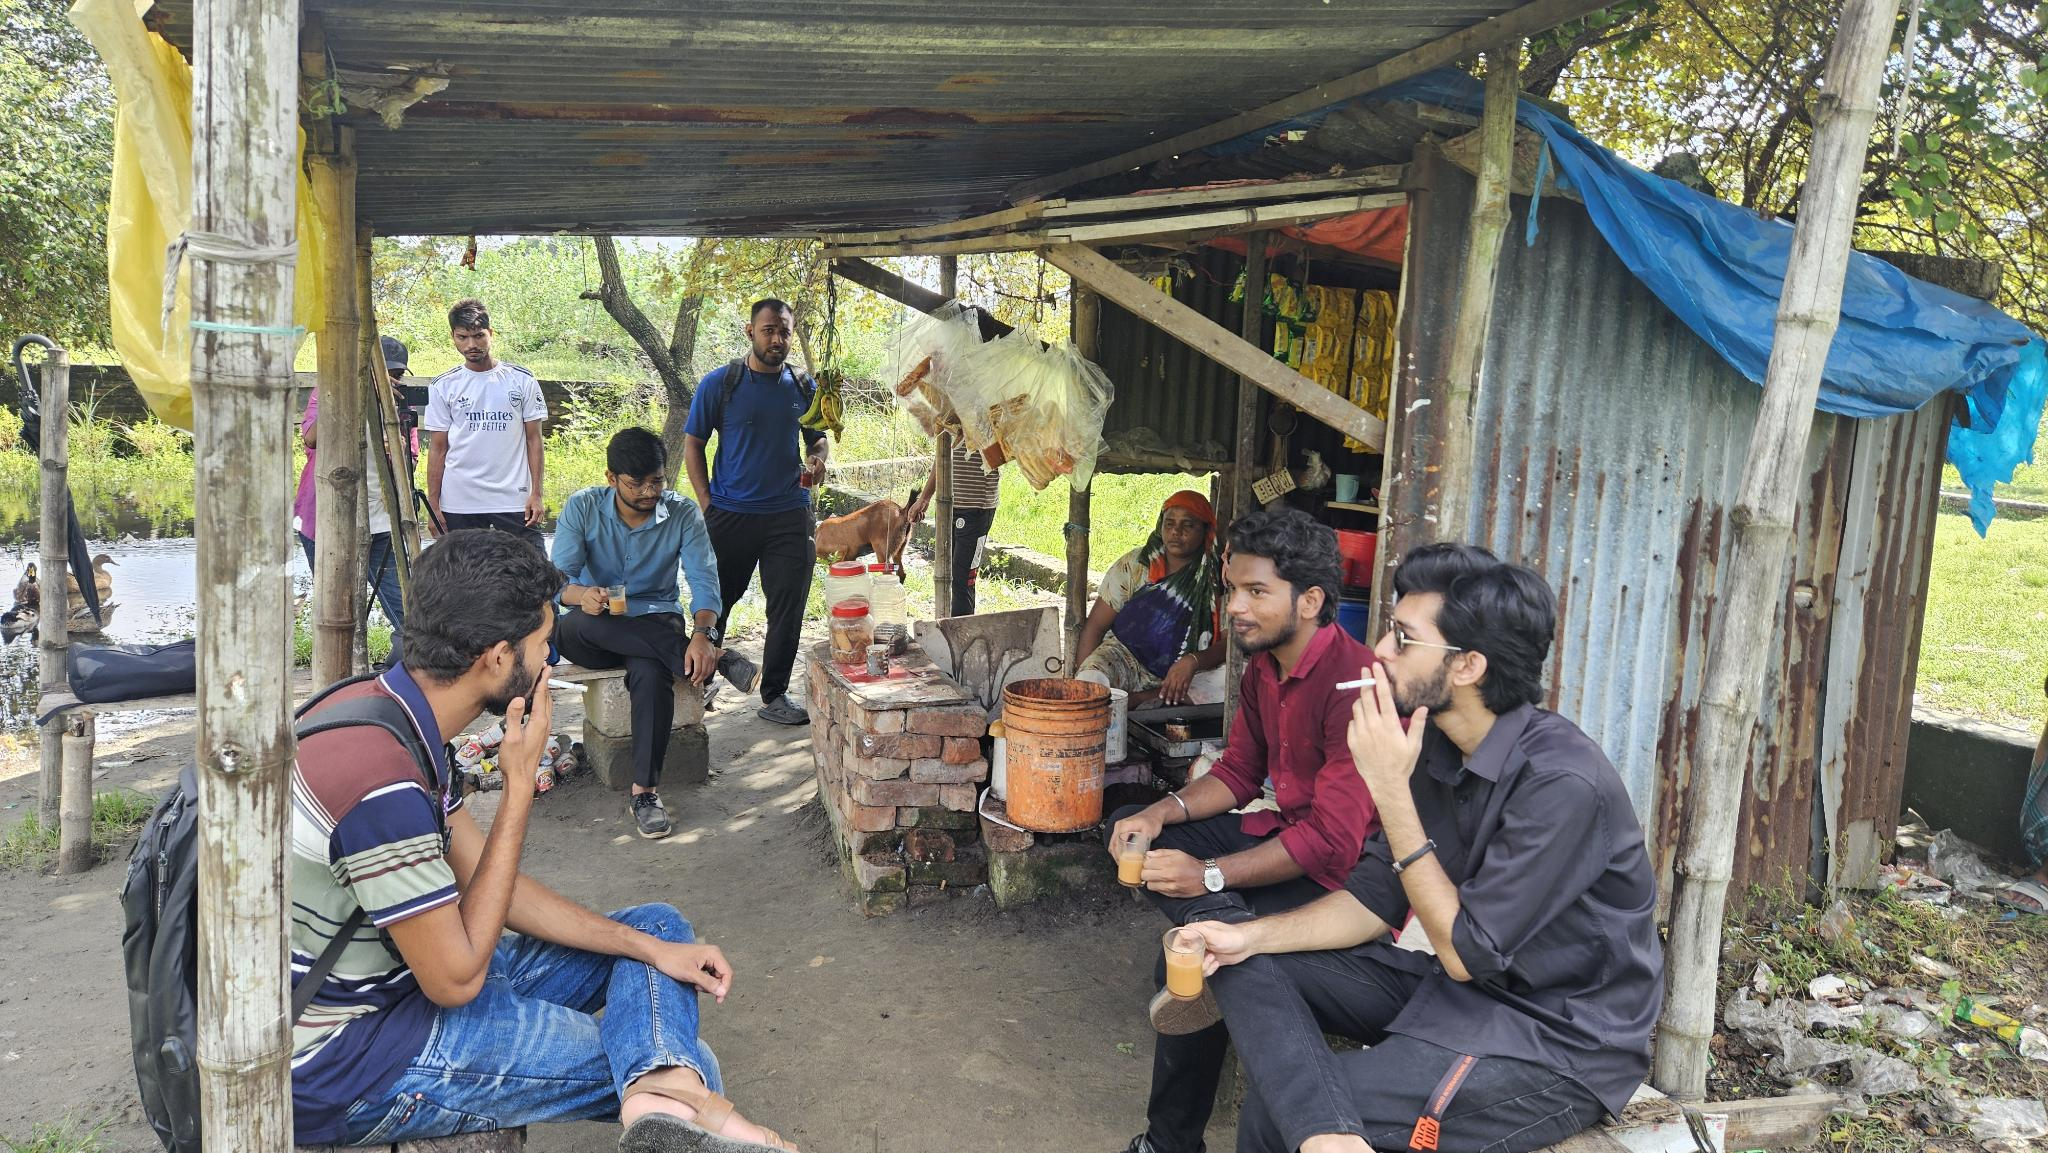cigarette: (546, 675, 591, 695), (1333, 676, 1378, 693)
nonSmoker: (1104, 509, 1373, 920), (550, 427, 762, 838), (684, 298, 827, 726), (1076, 491, 1228, 710), (423, 298, 549, 560)
smoker: (283, 530, 796, 1153), (1187, 546, 1665, 1153)
